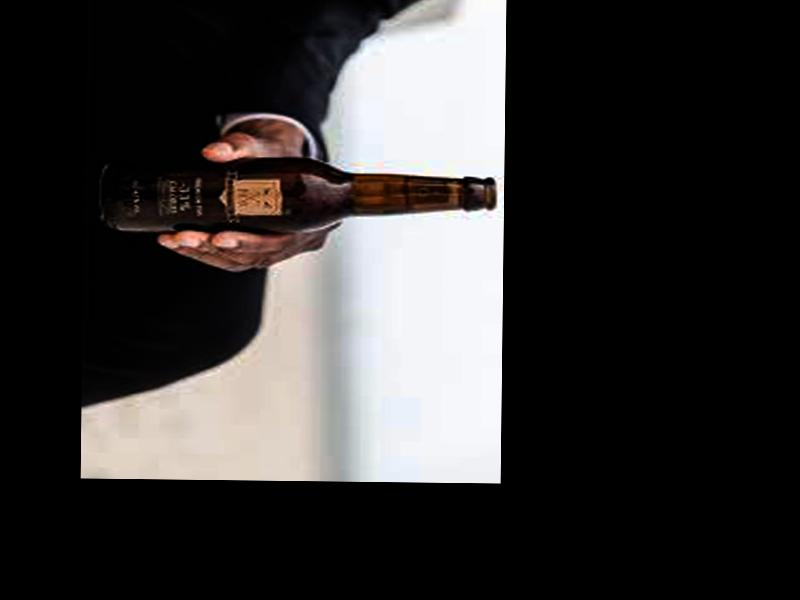Beer: (98, 158, 496, 237)
